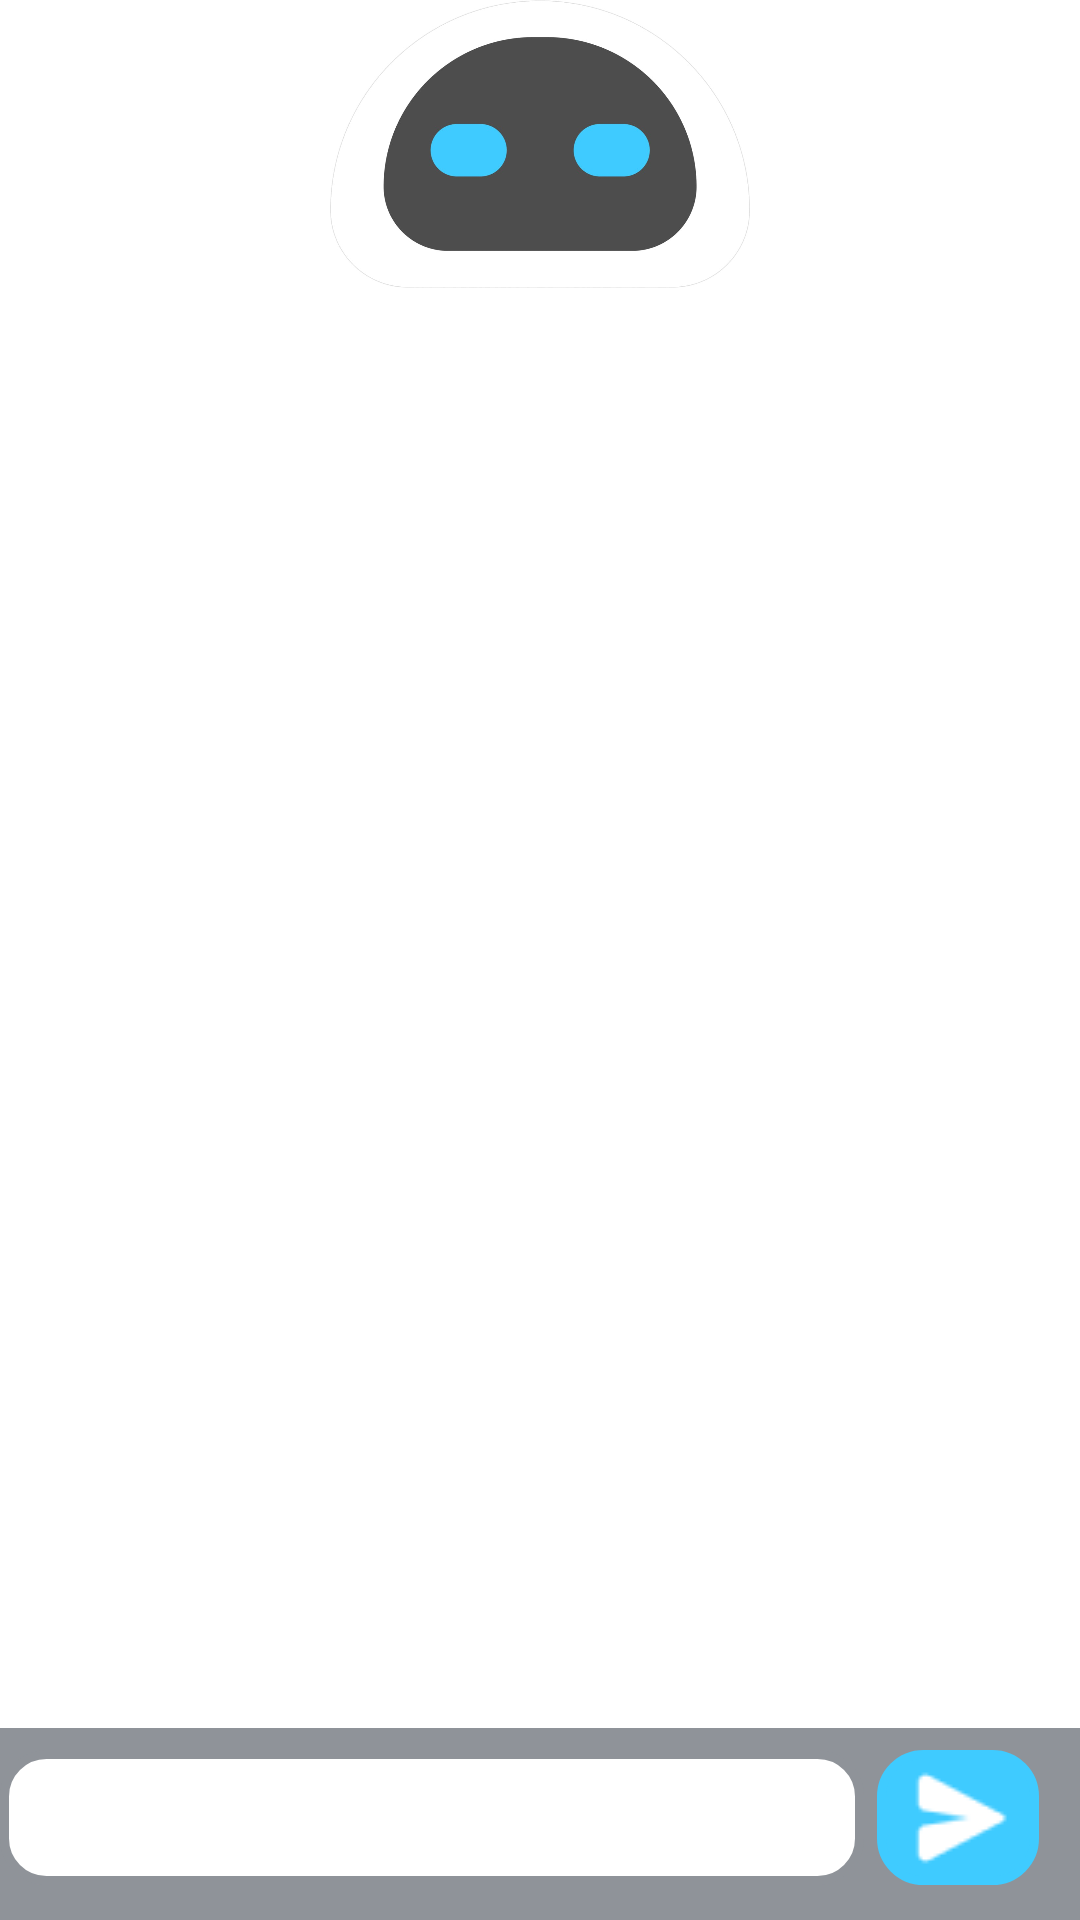

Locate icon controls on the screen. Image size 1080*1920, boxes as (x1, y1, x2, y2).
paper plane: (877, 1750, 1039, 1885)
